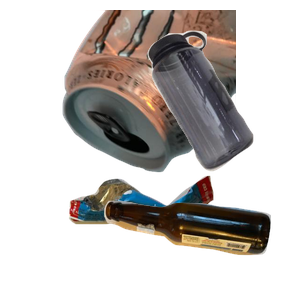glass: (101, 198, 300, 300)
metal: (60, 10, 300, 175)
plastic: (145, 28, 300, 192)
trash: (66, 173, 272, 300)
